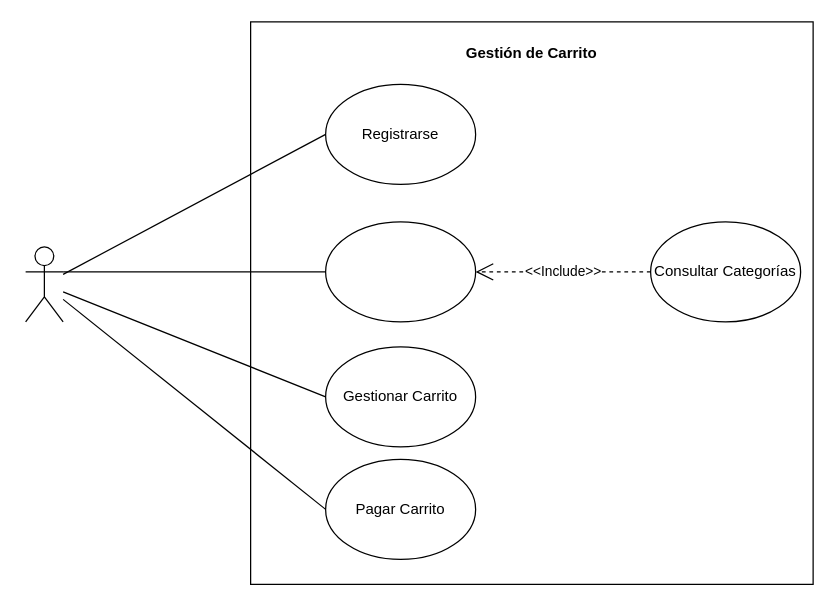
Image size: 835x606. Some labels were removed from this diagram. The centre of each missing label's shape, as x and y in pixels:
Cliente: point 43,284
Navegar Catálogo de Productos: point 400,271
